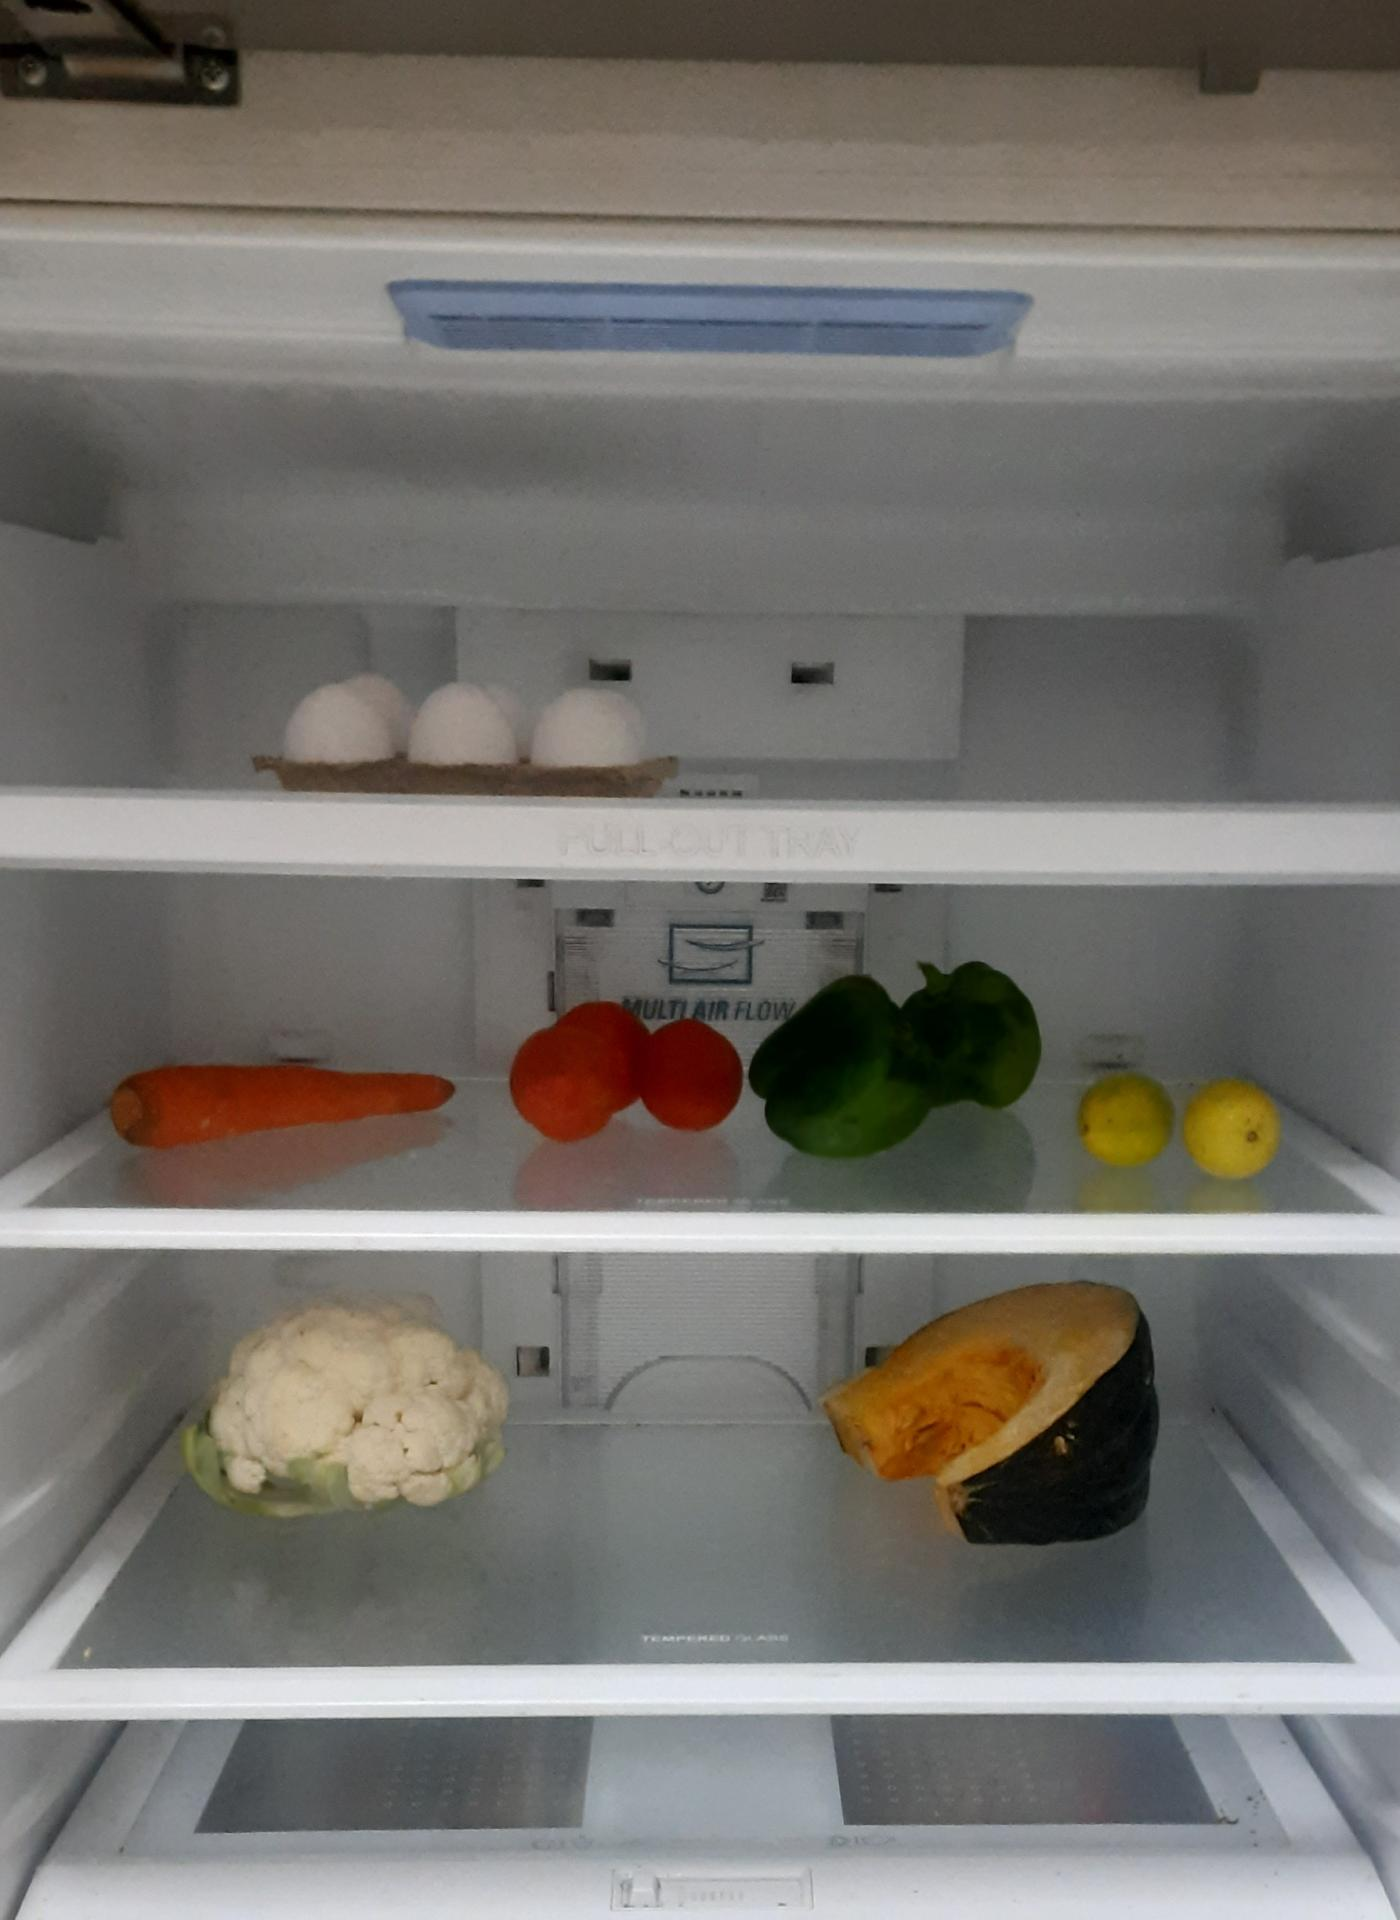capsicum: (756, 963, 1045, 1154)
carrots: (103, 1049, 455, 1151)
cauliflower: (182, 1301, 511, 1516)
egg: (270, 684, 641, 784)
lemon: (1082, 1069, 1293, 1172)
pumpkin: (820, 1285, 1170, 1552)
tomato: (510, 1002, 748, 1143)
